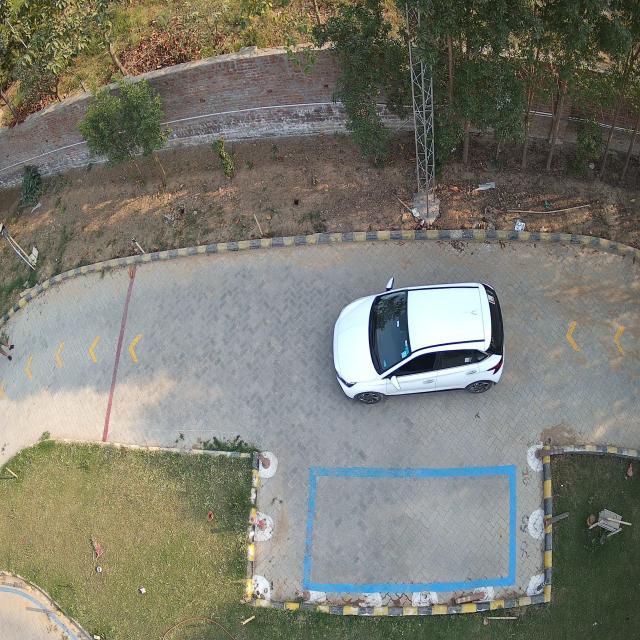car: (333, 282, 505, 405)
